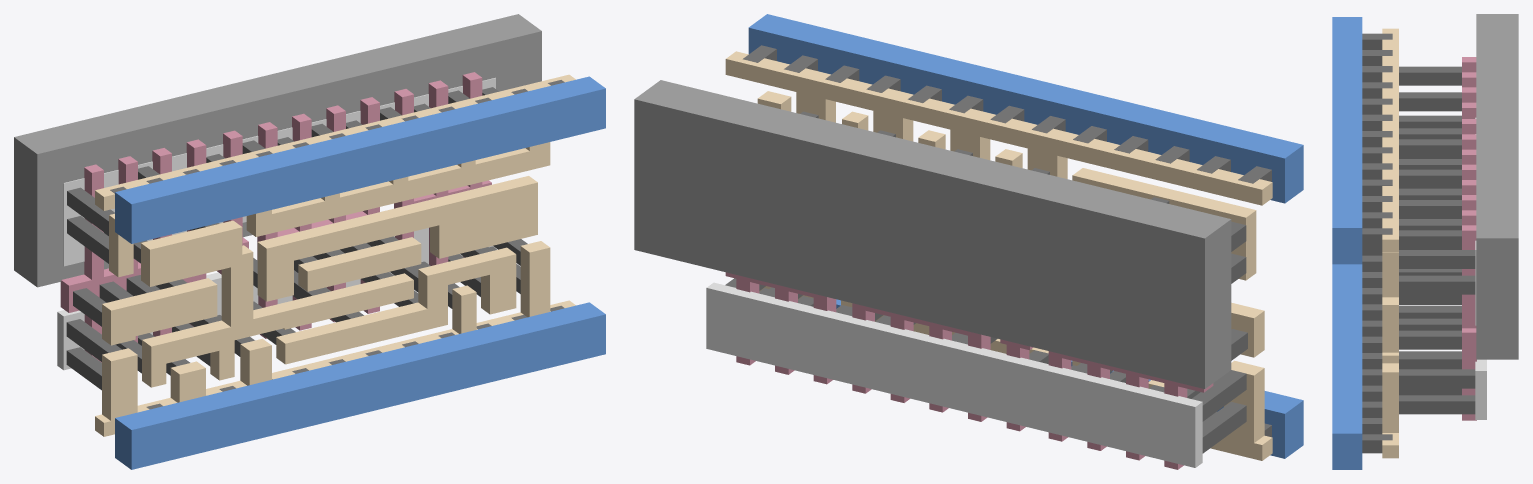
The model's file is sky130_fd_sc_hd__a21oi_4.gds.gltf.
3 renders of one model, left to right at view 1: azimuth 30°, elevation 25°; view 2: azimuth 150°, elevation 25°; view 3: azimuth 270°, elevation 25°, orthographic. The views are drawn at different scales.
Visible parts, largest first — view 1: sky130_fd_sc_hd__a21oi_4_li1, sky130_fd_sc_hd__a21oi_4_met1, sky130_fd_sc_hd__a21oi_4_nwell, sky130_fd_sc_hd__a21oi_4_licon, sky130_fd_sc_hd__a21oi_4_poly, sky130_fd_sc_hd__a21oi_4_diff, sky130_fd_sc_hd__a21oi_4_mcon; view 2: sky130_fd_sc_hd__a21oi_4_nwell, sky130_fd_sc_hd__a21oi_4_diff, sky130_fd_sc_hd__a21oi_4_li1, sky130_fd_sc_hd__a21oi_4_met1, sky130_fd_sc_hd__a21oi_4_poly, sky130_fd_sc_hd__a21oi_4_licon, sky130_fd_sc_hd__a21oi_4_mcon; view 3: sky130_fd_sc_hd__a21oi_4_licon, sky130_fd_sc_hd__a21oi_4_nwell, sky130_fd_sc_hd__a21oi_4_met1, sky130_fd_sc_hd__a21oi_4_mcon, sky130_fd_sc_hd__a21oi_4_li1, sky130_fd_sc_hd__a21oi_4_poly, sky130_fd_sc_hd__a21oi_4_diff.
Part boxes in pixels (box(x1,y1,x2,y2)): sky130_fd_sc_hd__a21oi_4_li1: box(95, 74, 575, 436); sky130_fd_sc_hd__a21oi_4_met1: box(115, 76, 605, 469); sky130_fd_sc_hd__a21oi_4_nwell: box(14, 14, 541, 287); sky130_fd_sc_hd__a21oi_4_licon: box(66, 87, 527, 390); sky130_fd_sc_hd__a21oi_4_poly: box(60, 72, 491, 362); sky130_fd_sc_hd__a21oi_4_diff: box(57, 77, 495, 370); sky130_fd_sc_hd__a21oi_4_mcon: box(110, 80, 564, 409); sky130_fd_sc_hd__a21oi_4_nwell: box(634, 80, 1231, 388); sky130_fd_sc_hd__a21oi_4_diff: box(706, 282, 1202, 467); sky130_fd_sc_hd__a21oi_4_li1: box(725, 51, 1272, 460); sky130_fd_sc_hd__a21oi_4_met1: box(748, 14, 1303, 458); sky130_fd_sc_hd__a21oi_4_poly: box(725, 272, 1213, 469); sky130_fd_sc_hd__a21oi_4_licon: box(725, 111, 1247, 453); sky130_fd_sc_hd__a21oi_4_mcon: box(743, 45, 1271, 437); sky130_fd_sc_hd__a21oi_4_licon: box(1399, 66, 1475, 414); sky130_fd_sc_hd__a21oi_4_nwell: box(1476, 14, 1518, 359); sky130_fd_sc_hd__a21oi_4_met1: box(1332, 17, 1362, 469); sky130_fd_sc_hd__a21oi_4_mcon: box(1362, 33, 1392, 453); sky130_fd_sc_hd__a21oi_4_li1: box(1382, 28, 1398, 458); sky130_fd_sc_hd__a21oi_4_poly: box(1462, 57, 1476, 420); sky130_fd_sc_hd__a21oi_4_diff: box(1475, 117, 1486, 419).
Bounding box in the file's own units: 6.36 × 3.2 × 2.24.
